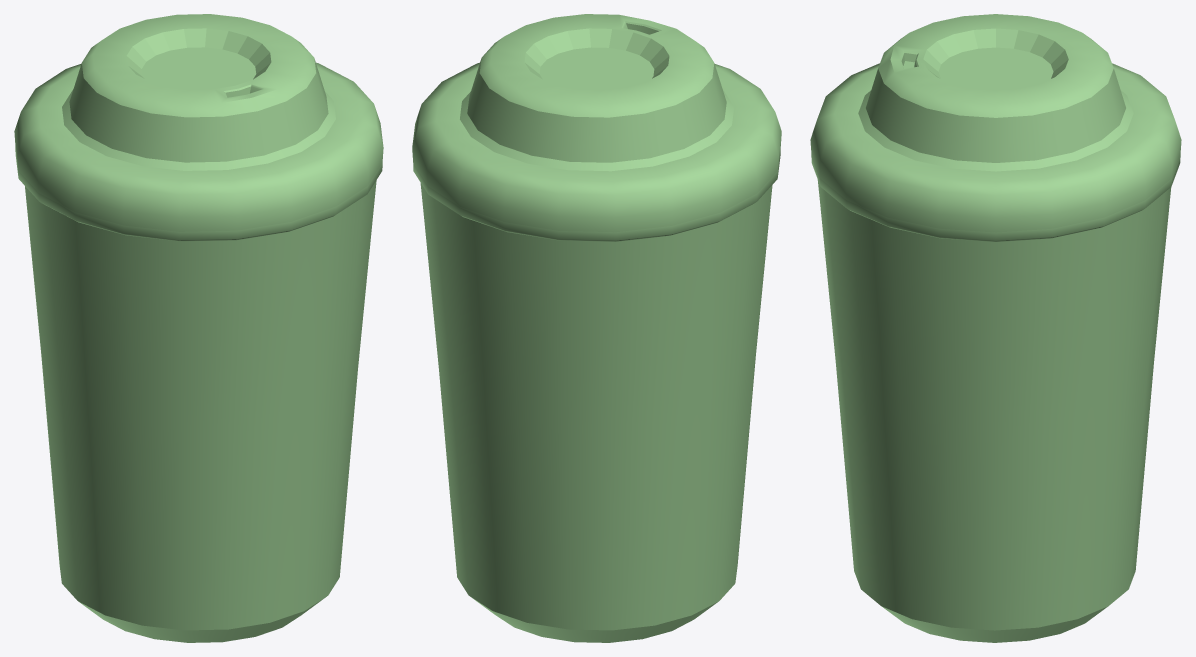
Rendered from CoffeeCup02.fbx.
3 renders of one model, left to right at view 1: azimuth 30°, elevation 25°; view 2: azimuth 150°, elevation 25°; view 3: azimuth 270°, elevation 25°, orthographic.
Parts seen in each view (by area): view 1: CoffeeCup02_Modelling_v001:CoffeeCup_Cup, CoffeeCup02_Modelling_v001:CoffeeCup_Lid; view 2: CoffeeCup02_Modelling_v001:CoffeeCup_Cup, CoffeeCup02_Modelling_v001:CoffeeCup_Lid; view 3: CoffeeCup02_Modelling_v001:CoffeeCup_Cup, CoffeeCup02_Modelling_v001:CoffeeCup_Lid.
Part boxes in pixels (x1=…): CoffeeCup02_Modelling_v001:CoffeeCup_Cup: x1=25, y1=180, x2=376, y2=642; CoffeeCup02_Modelling_v001:CoffeeCup_Lid: x1=14, y1=14, x2=383, y2=241; CoffeeCup02_Modelling_v001:CoffeeCup_Cup: x1=420, y1=183, x2=772, y2=642; CoffeeCup02_Modelling_v001:CoffeeCup_Lid: x1=412, y1=14, x2=781, y2=241; CoffeeCup02_Modelling_v001:CoffeeCup_Cup: x1=817, y1=180, x2=1171, y2=642; CoffeeCup02_Modelling_v001:CoffeeCup_Lid: x1=810, y1=14, x2=1181, y2=241.
Size of the model in its own units: 8.18 by 13.06 by 8.18.
Materials: 1 (1 with a texture image).
